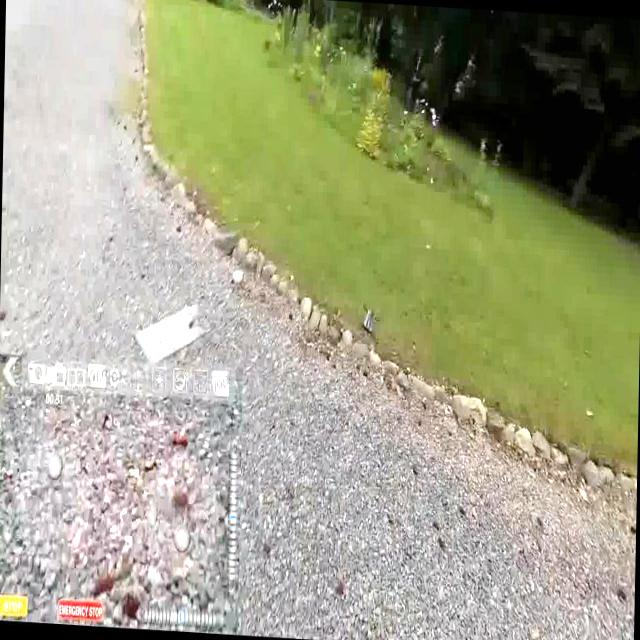drone: (358, 293, 382, 338)
